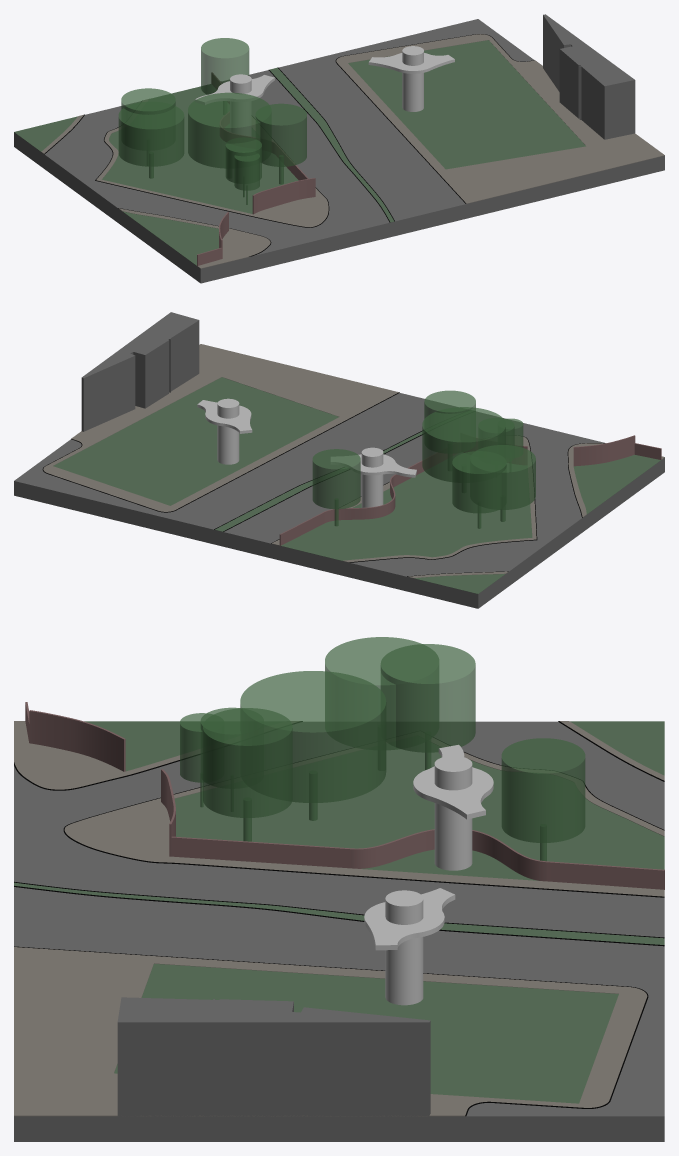
The picture shows the model from 3 angles, top to bottom: view 1: azimuth 30°, elevation 25°; view 2: azimuth 150°, elevation 25°; view 3: azimuth 270°, elevation 25°; orthographic projection. The views are drawn at different scales.
Parts seen in each view (by area): view 1: asphalt, grass, CANOPY, pavement, building, fence, CoreB, CoreA, curb, TRUNK; view 2: asphalt, grass, CANOPY, pavement, building, fence, CoreA, CoreB, curb; view 3: asphalt, grass, CANOPY, pavement, building, fence, CoreB, CoreA, curb, TRUNK.
Part boxes in pixels (x1,y1,x2,y2): asphalt: [14, 19, 664, 283]; grass: [14, 40, 585, 265]; CANOPY: [118, 38, 306, 190]; pavement: [41, 34, 664, 268]; building: [543, 14, 635, 139]; fence: [197, 72, 315, 266]; CoreB: [368, 46, 454, 111]; CoreA: [195, 74, 274, 136]; curb: [44, 34, 534, 256]; TRUNK: [147, 101, 283, 204]; asphalt: [14, 393, 664, 608]; grass: [53, 377, 660, 593]; CANOPY: [312, 390, 535, 513]; pavement: [43, 344, 664, 578]; building: [81, 312, 199, 431]; fence: [279, 435, 661, 545]; CoreA: [331, 447, 416, 507]; CoreB: [197, 398, 252, 464]; curb: [42, 392, 604, 576]; asphalt: [14, 721, 664, 1141]; grass: [14, 721, 664, 1103]; CANOPY: [180, 637, 585, 842]; pavement: [14, 721, 664, 1116]; building: [117, 997, 430, 1116]; fence: [25, 702, 664, 889]; CoreB: [364, 888, 455, 1005]; CoreA: [413, 744, 493, 870]; curb: [14, 721, 664, 1116]; TRUNK: [200, 739, 546, 861].
Size of the model in its own units: 128 by 22.08 by 89.24.
